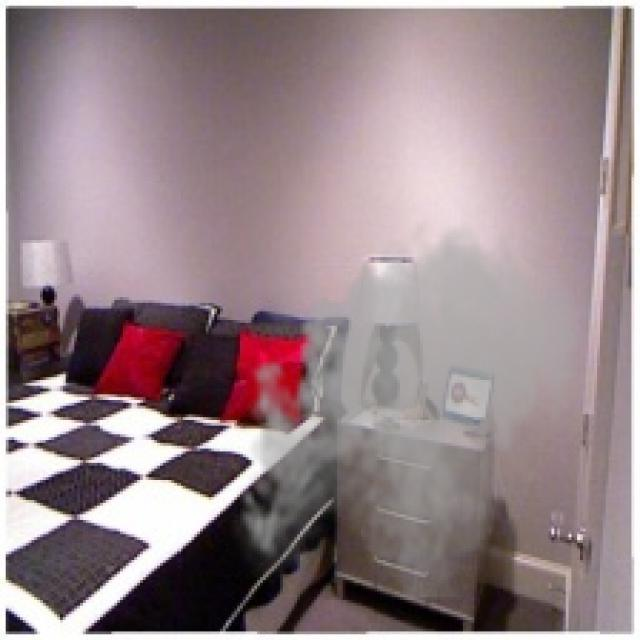Smoke: (228, 211, 588, 603)
